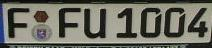0: (164, 6, 186, 39), (140, 7, 162, 39)
1: (116, 7, 138, 39)
4: (187, 7, 209, 40)
F: (58, 7, 81, 40), (8, 7, 30, 40)
U: (82, 7, 107, 40)
